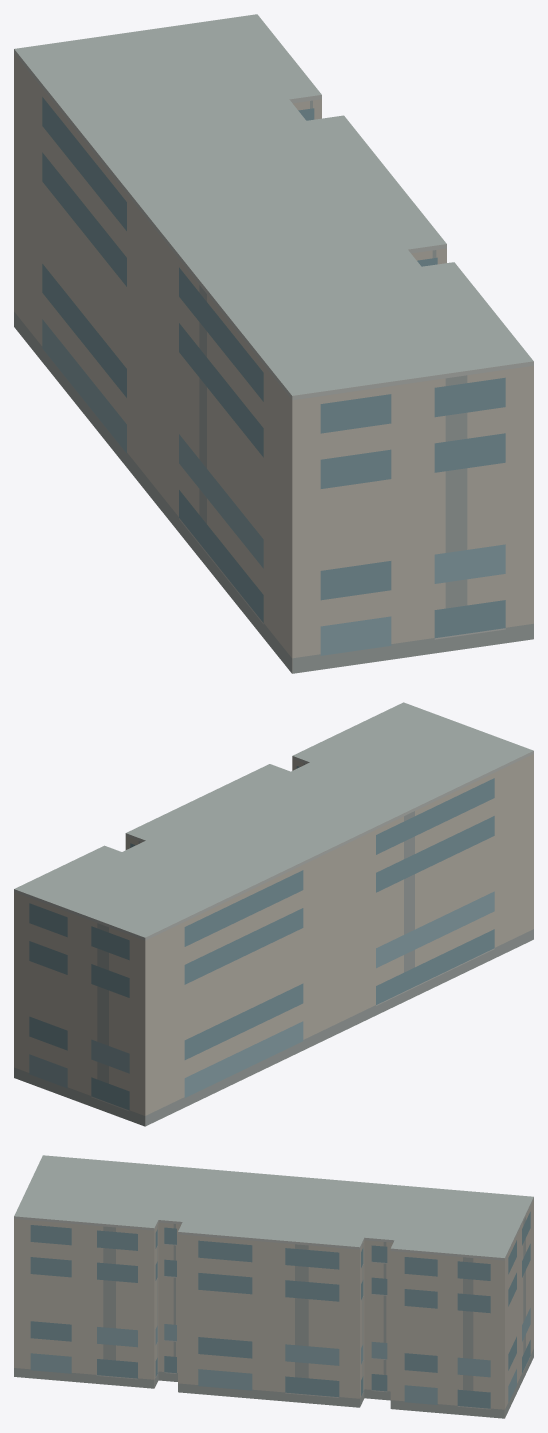
File: residential-a81a2390-ba03-429c-b91d-442fbc8c1059.glb
3 views of the same model, one above another, from view 1: azimuth 30°, elevation 25°; view 2: azimuth 150°, elevation 25°; view 3: azimuth 270°, elevation 25° (orthographic). The views are drawn at different scales.
Visible parts, largest first — view 1: residential-a81a2390-ba03-429c-b91d-442fbc8c1059.tmp; view 2: residential-a81a2390-ba03-429c-b91d-442fbc8c1059.tmp; view 3: residential-a81a2390-ba03-429c-b91d-442fbc8c1059.tmp.
Boxes of the visible parts, x1=… form: residential-a81a2390-ba03-429c-b91d-442fbc8c1059.tmp: x1=14, y1=14, x2=533, y2=673; residential-a81a2390-ba03-429c-b91d-442fbc8c1059.tmp: x1=14, y1=702, x2=533, y2=1126; residential-a81a2390-ba03-429c-b91d-442fbc8c1059.tmp: x1=14, y1=1155, x2=533, y2=1418.
Bounding box in the file's own units: 20.98 × 15.25 × 44.77.
